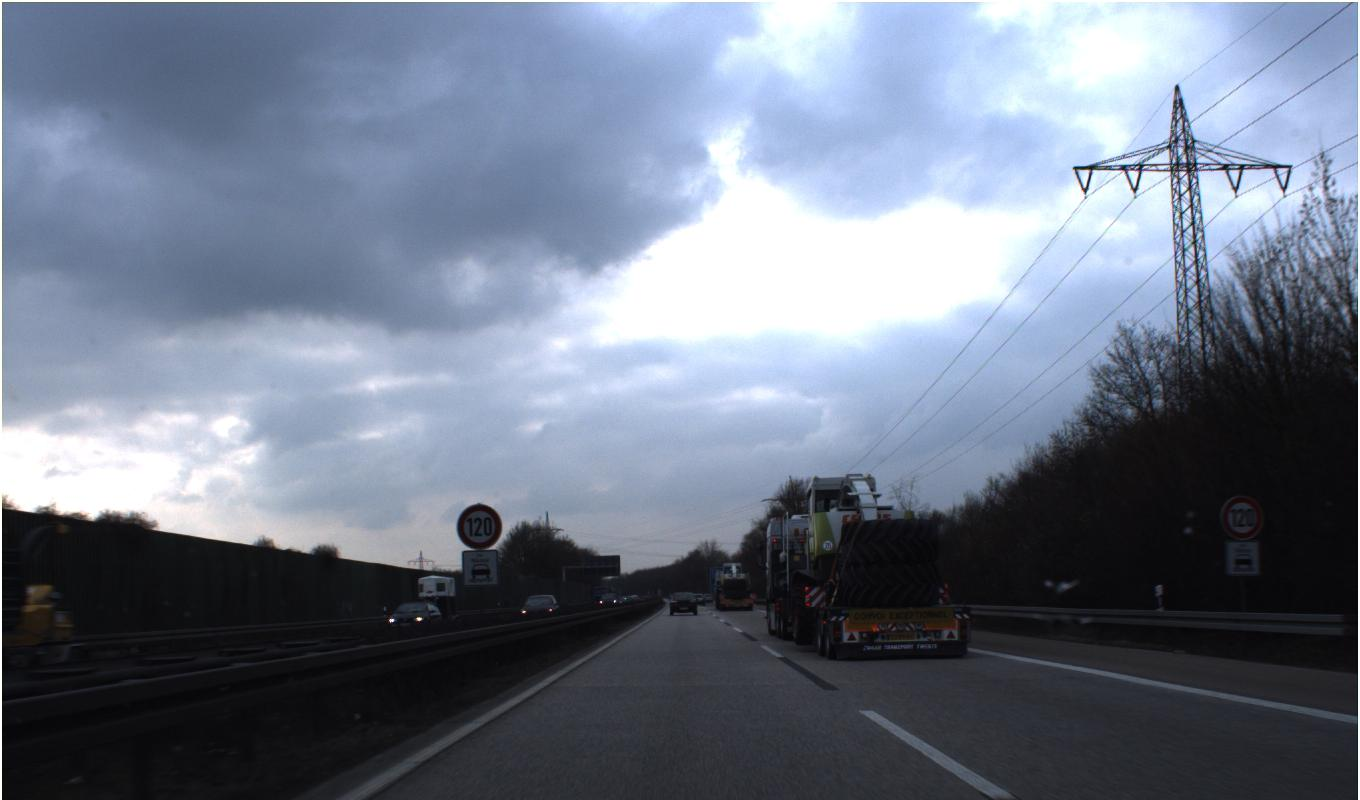prohibitory: (455, 502, 503, 550), (1219, 494, 1265, 541)
